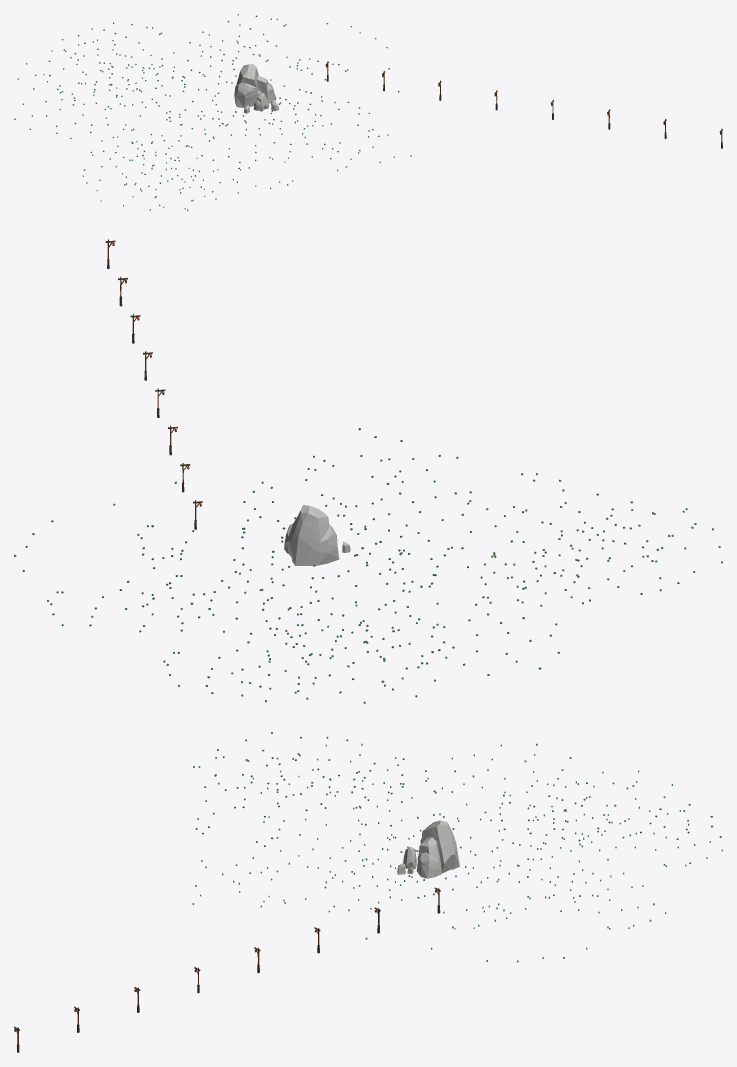
The model's file is chunk_0_2.glb.
3 views of the same model, one above another, from view 1: azimuth 30°, elevation 25°; view 2: azimuth 150°, elevation 25°; view 3: azimuth 270°, elevation 25° (orthographic). The views are drawn at different scales.
Visible parts, largest first — view 1: Batched_Chunk_0_2; view 2: Batched_Chunk_0_2; view 3: Batched_Chunk_0_2.
Boxes of the visible parts, x1,y1,x2,y2 form: Batched_Chunk_0_2: (14, 14, 722, 210); Batched_Chunk_0_2: (14, 239, 722, 703); Batched_Chunk_0_2: (14, 732, 722, 1052).
Size of the model in its own units: 110 by 7.36 by 103.
